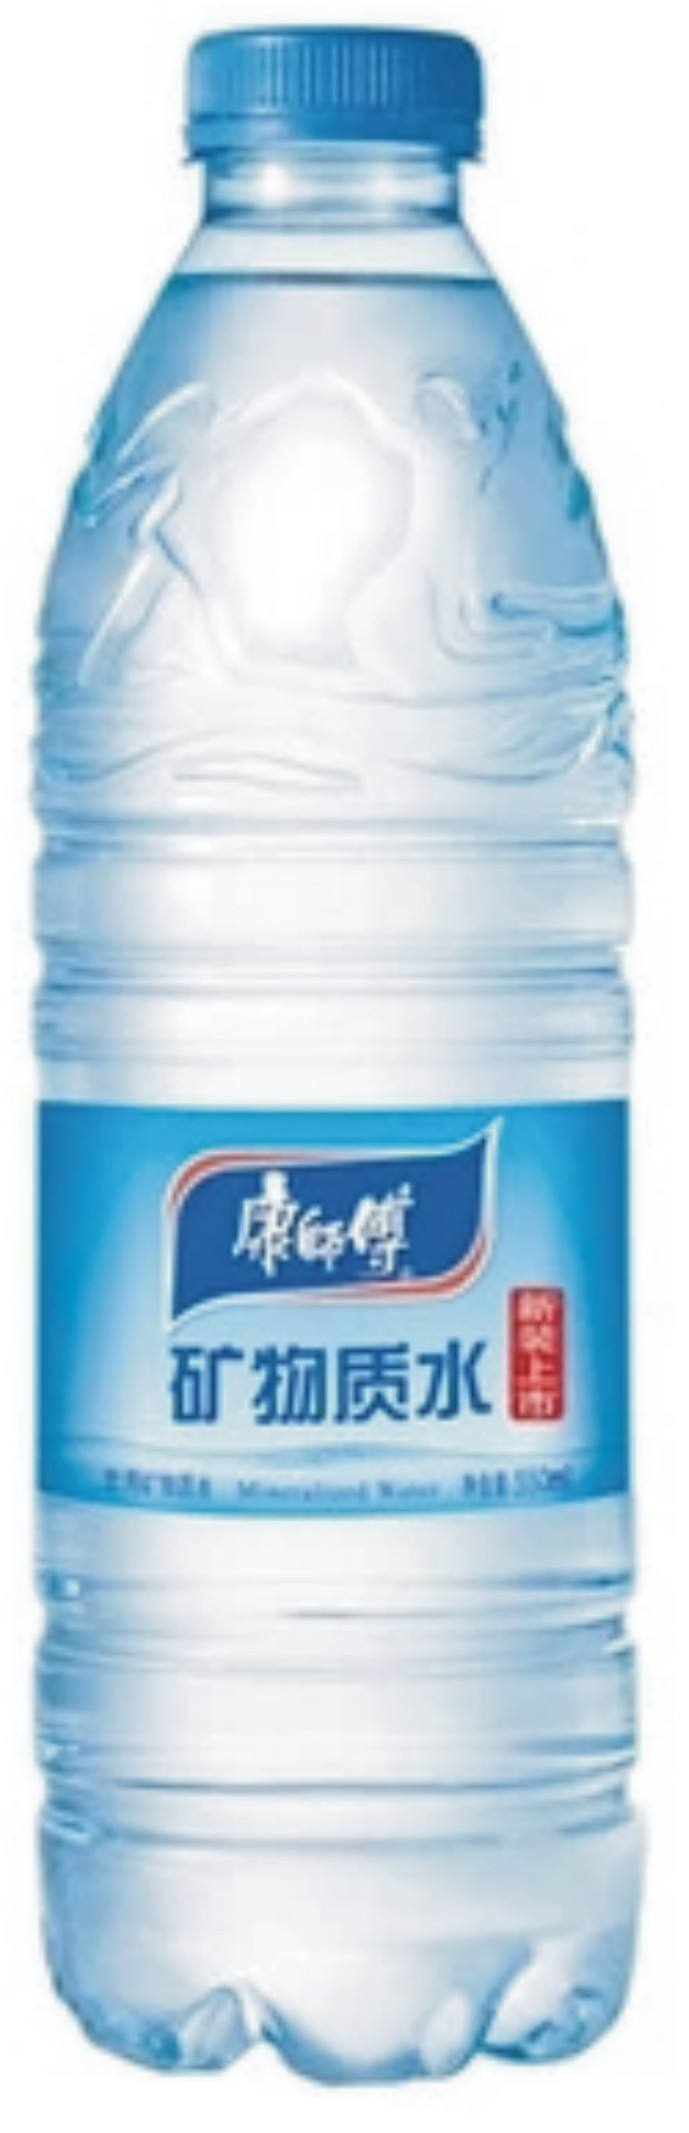amwater: (1, 1, 682, 2039)
